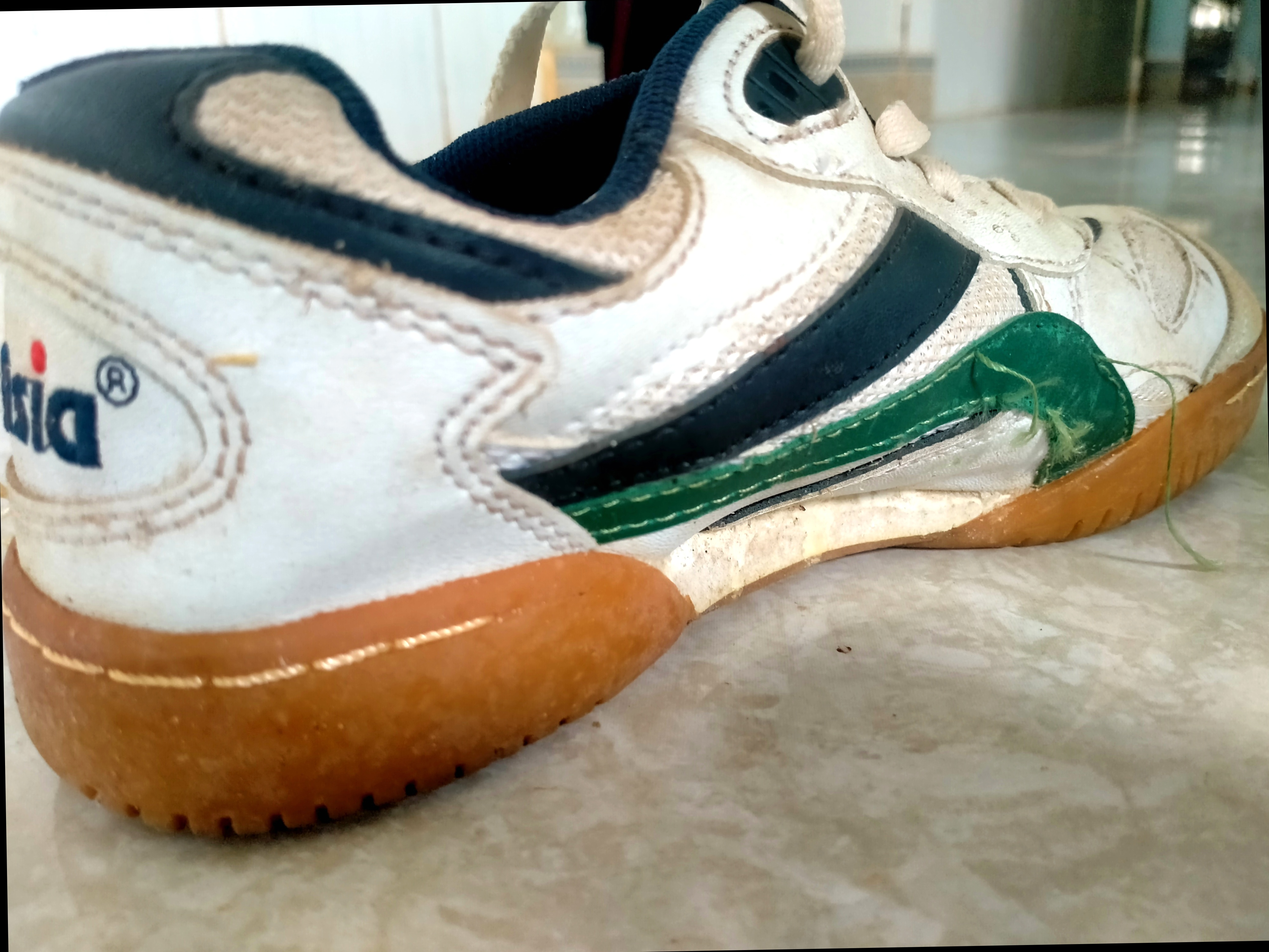broken: (984, 315, 1101, 368), (991, 382, 1072, 426)
